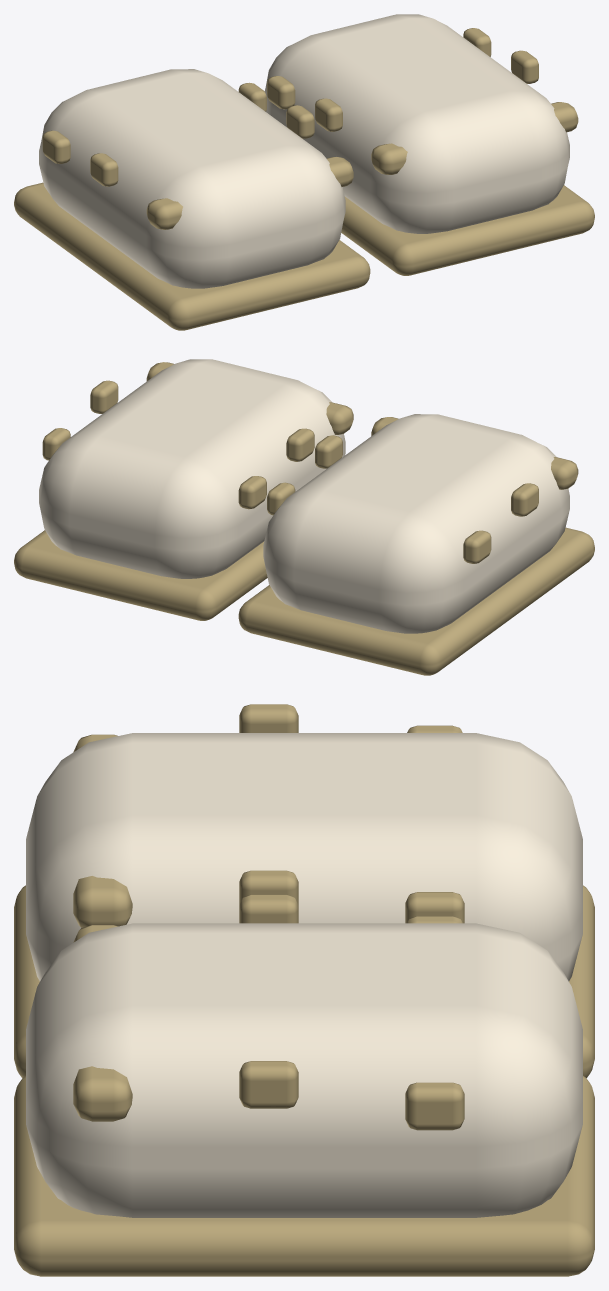
Rendered from flower_sandals.glb.
3 renders of one model, top to bottom at view 1: azimuth 30°, elevation 25°; view 2: azimuth 150°, elevation 25°; view 3: azimuth 270°, elevation 25°, orthographic. The views are drawn at different scales.
Parts seen in each view (by area): view 1: flower_sandals_LegL, flower_sandals_LegR; view 2: flower_sandals_LegL, flower_sandals_LegR; view 3: flower_sandals_LegR, flower_sandals_LegL.
Part boxes in pixels (box(x1,y1,x2,y2)): flower_sandals_LegL: box(14, 69, 370, 330); flower_sandals_LegR: box(264, 14, 594, 275); flower_sandals_LegL: box(238, 414, 594, 675); flower_sandals_LegR: box(14, 359, 353, 620); flower_sandals_LegR: box(14, 894, 594, 1276); flower_sandals_LegL: box(14, 704, 594, 1077).
Bounding box in the file's own units: 0.37 × 0.1075 × 0.245.
